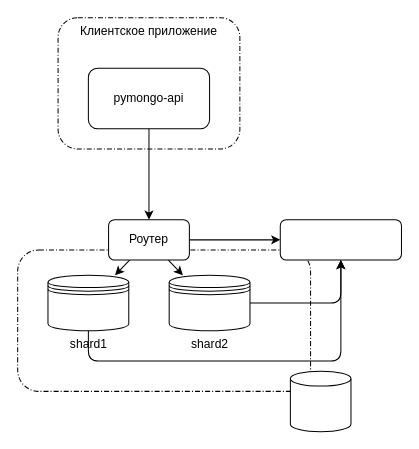
This 419x449 diagram has some shape labels left out. The centre of each missing label's shape, as x and y in pixels:
MongoDB: [320,401]
Конфигурационный сервер: [340,239]
